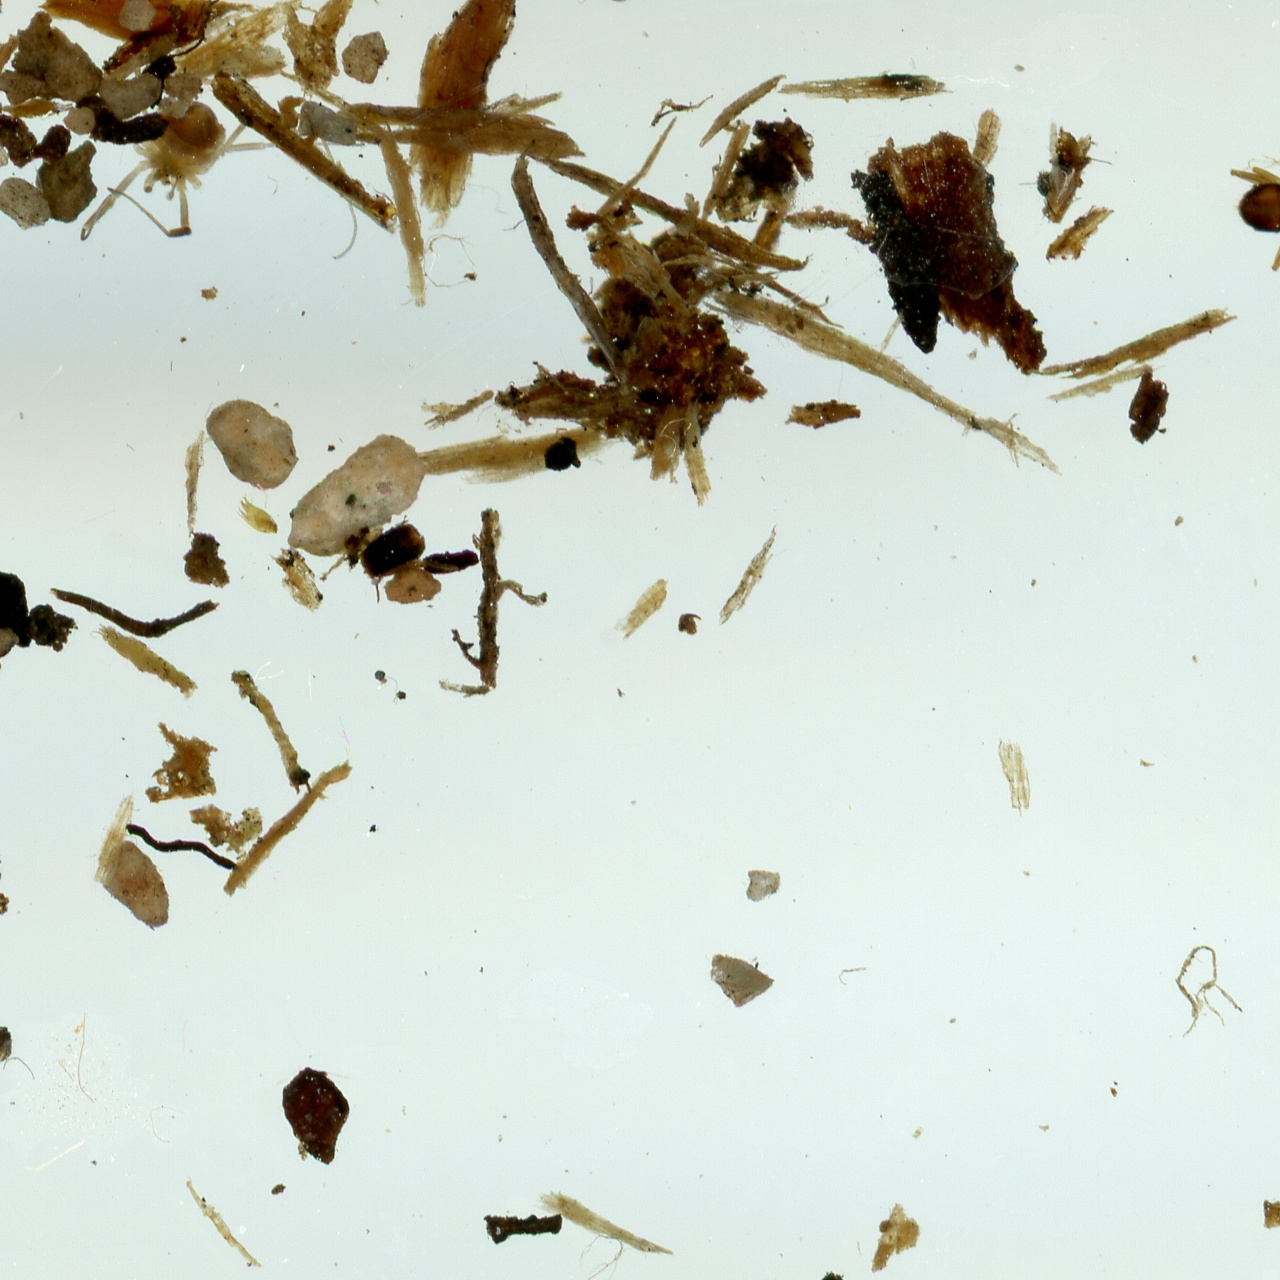arthropod: (0, 40, 361, 307), (1226, 121, 1280, 273)
